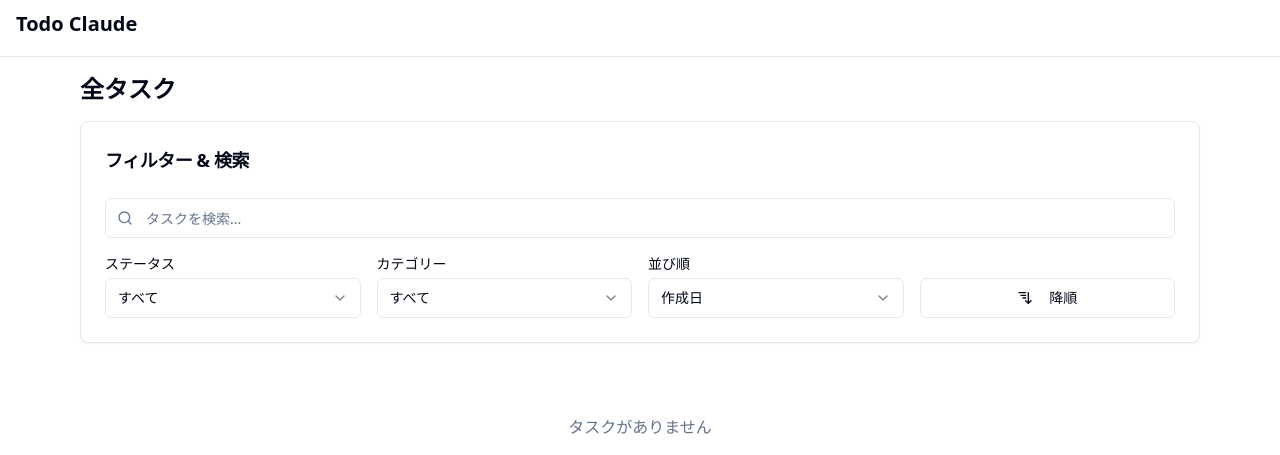
Test: AllTasksPage › should show empty state with search
The image size is (1280, 455).
In the field with placeholder "タスクを検索...": (640, 218) [105, 198, 1175, 238], type "test"
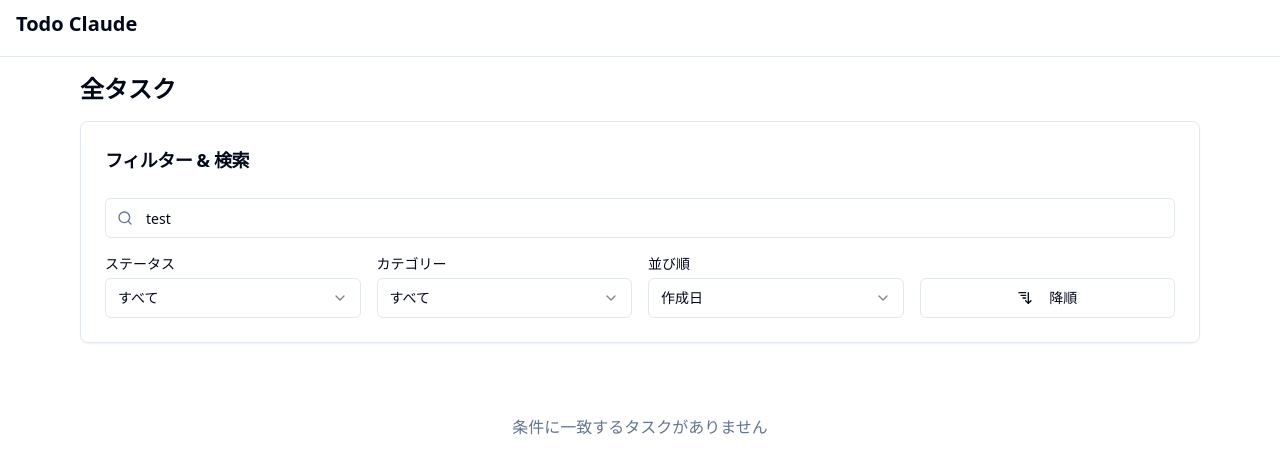
Result: the text "条件に一致するタスクがありません" is shown at [512, 416, 768, 438]
